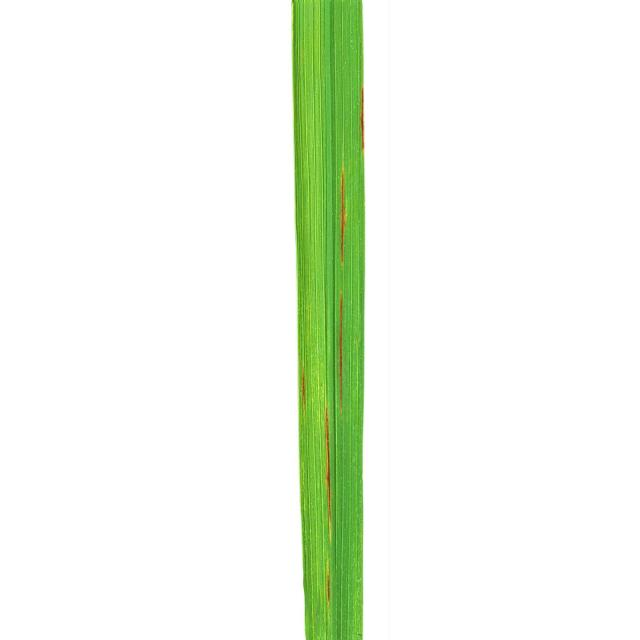Narrow brown: (240, 0, 467, 640)
